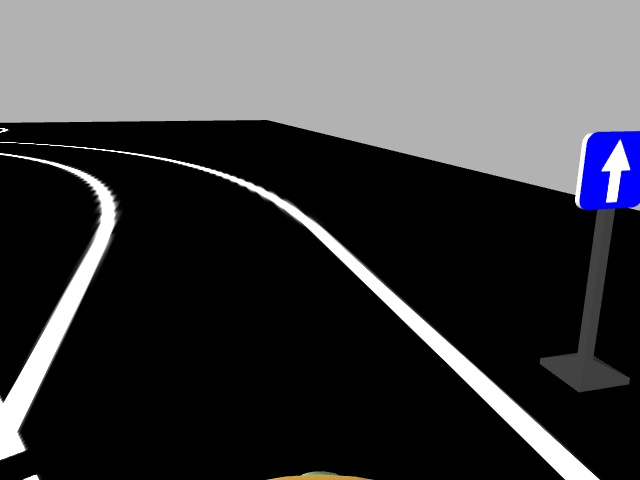OneWay: (576, 129, 639, 208)
